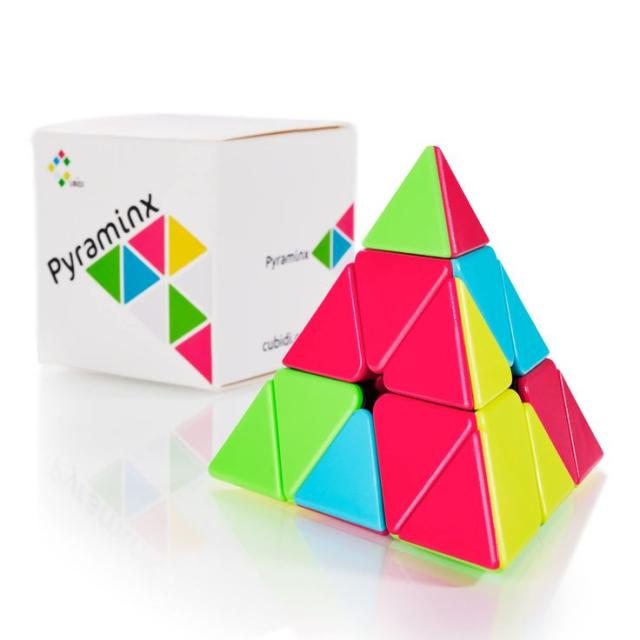Pyraminx: (210, 147, 601, 578)
